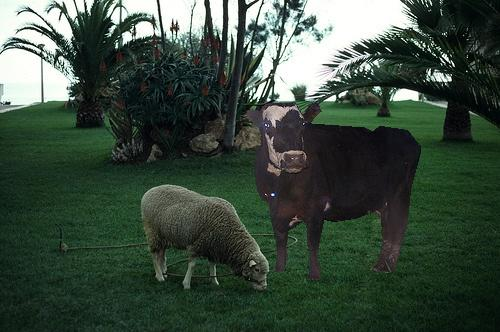tampered: (247, 103, 421, 280)
